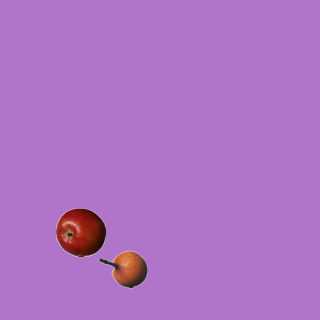Apple Braeburn: (55, 207, 105, 257)
Granadilla: (97, 244, 147, 294)
